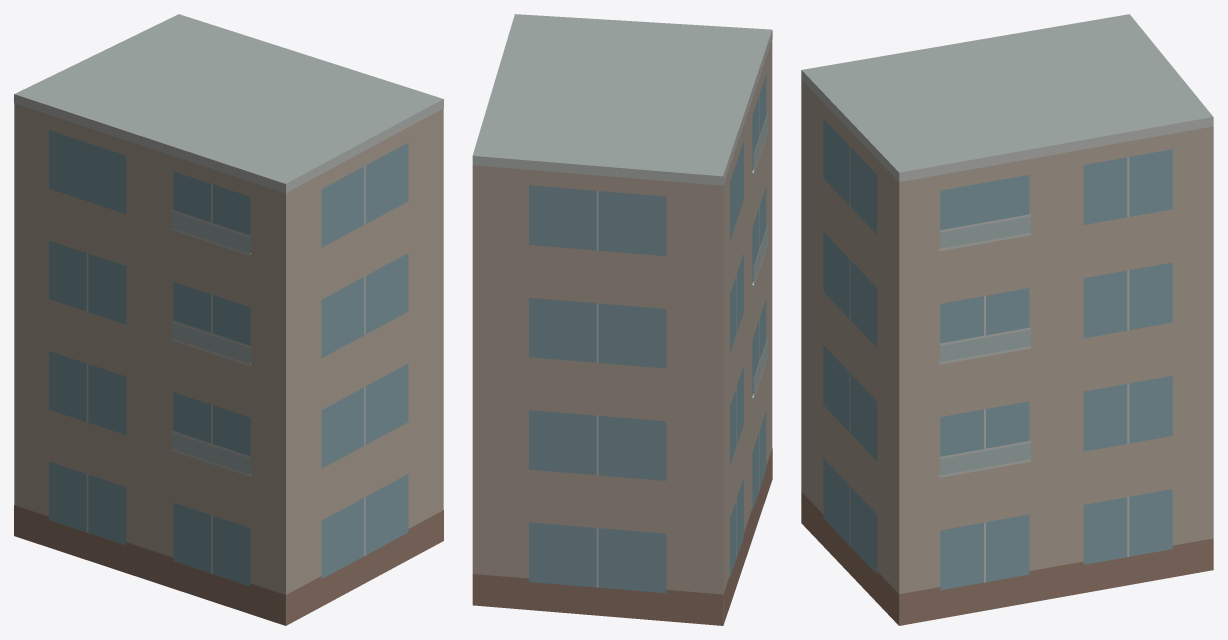
The model's file is survey-upis-32834800.glb.
The picture shows the model from 3 angles, left to right: view 1: azimuth 30°, elevation 25°; view 2: azimuth 150°, elevation 25°; view 3: azimuth 270°, elevation 25°; orthographic projection. The views are drawn at different scales.
Visible parts, largest first — view 1: survey-upis-32834800.tmp; view 2: survey-upis-32834800.tmp; view 3: survey-upis-32834800.tmp.
Part boxes in pixels (x1,y1,x2,y2): survey-upis-32834800.tmp: (14,14,443,625); survey-upis-32834800.tmp: (472,14,772,625); survey-upis-32834800.tmp: (801,14,1213,625).
Size of the model in its own units: 8.8 by 11.7 by 9.65.
